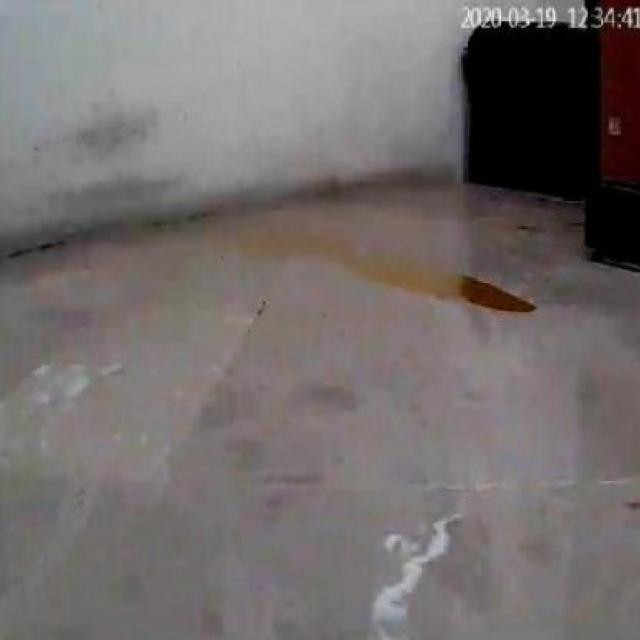spillage: (225, 217, 538, 316)
